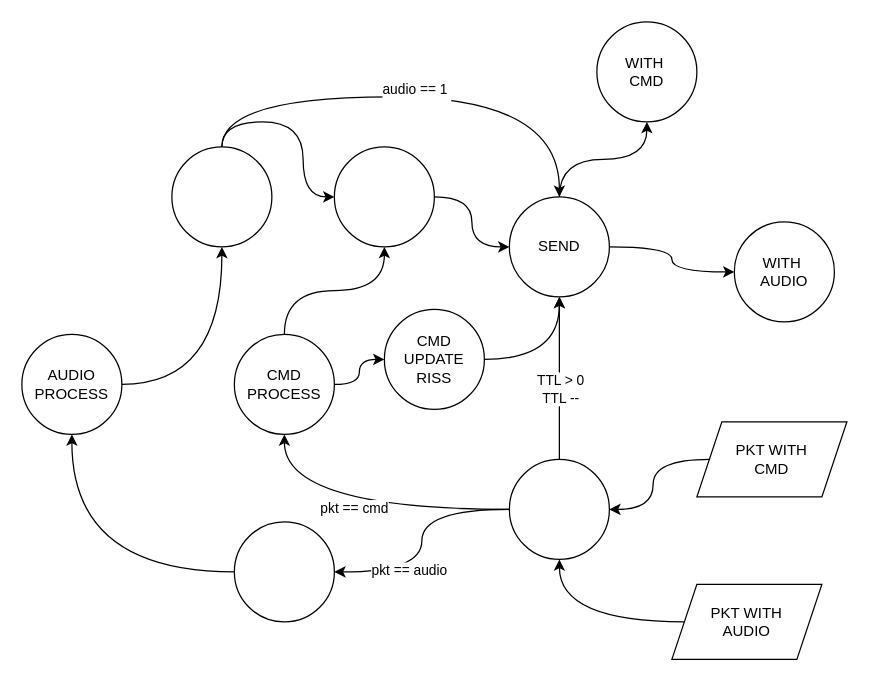
This 869x681 diagram has some shape labels left out. Here are the shapes that lost their labels. From the top down, the box of each, then its label:
(171, 146, 272, 247): IDLE
(333, 146, 434, 247): CMD ADD PEERS
(508, 458, 609, 559): RECEIVE
(233, 521, 334, 622): SAVE PKT CACHE
